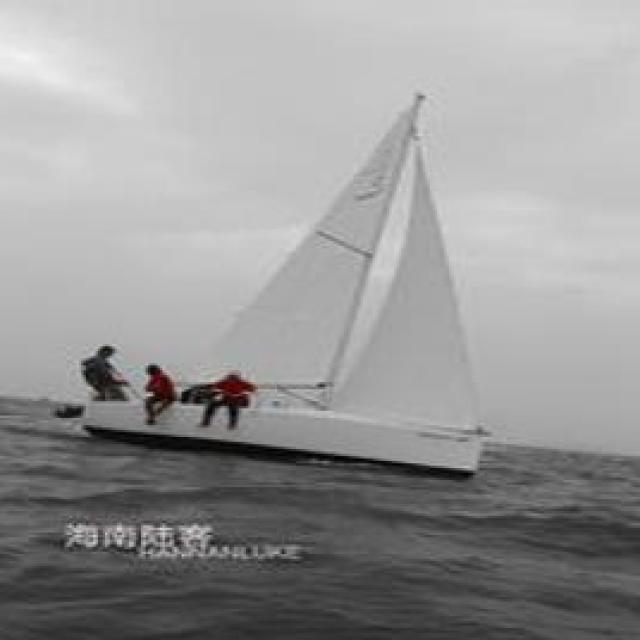sailboat: (56, 100, 528, 529)
